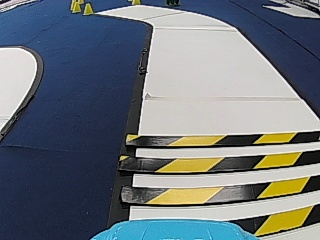bump: (138, 133, 302, 219)
